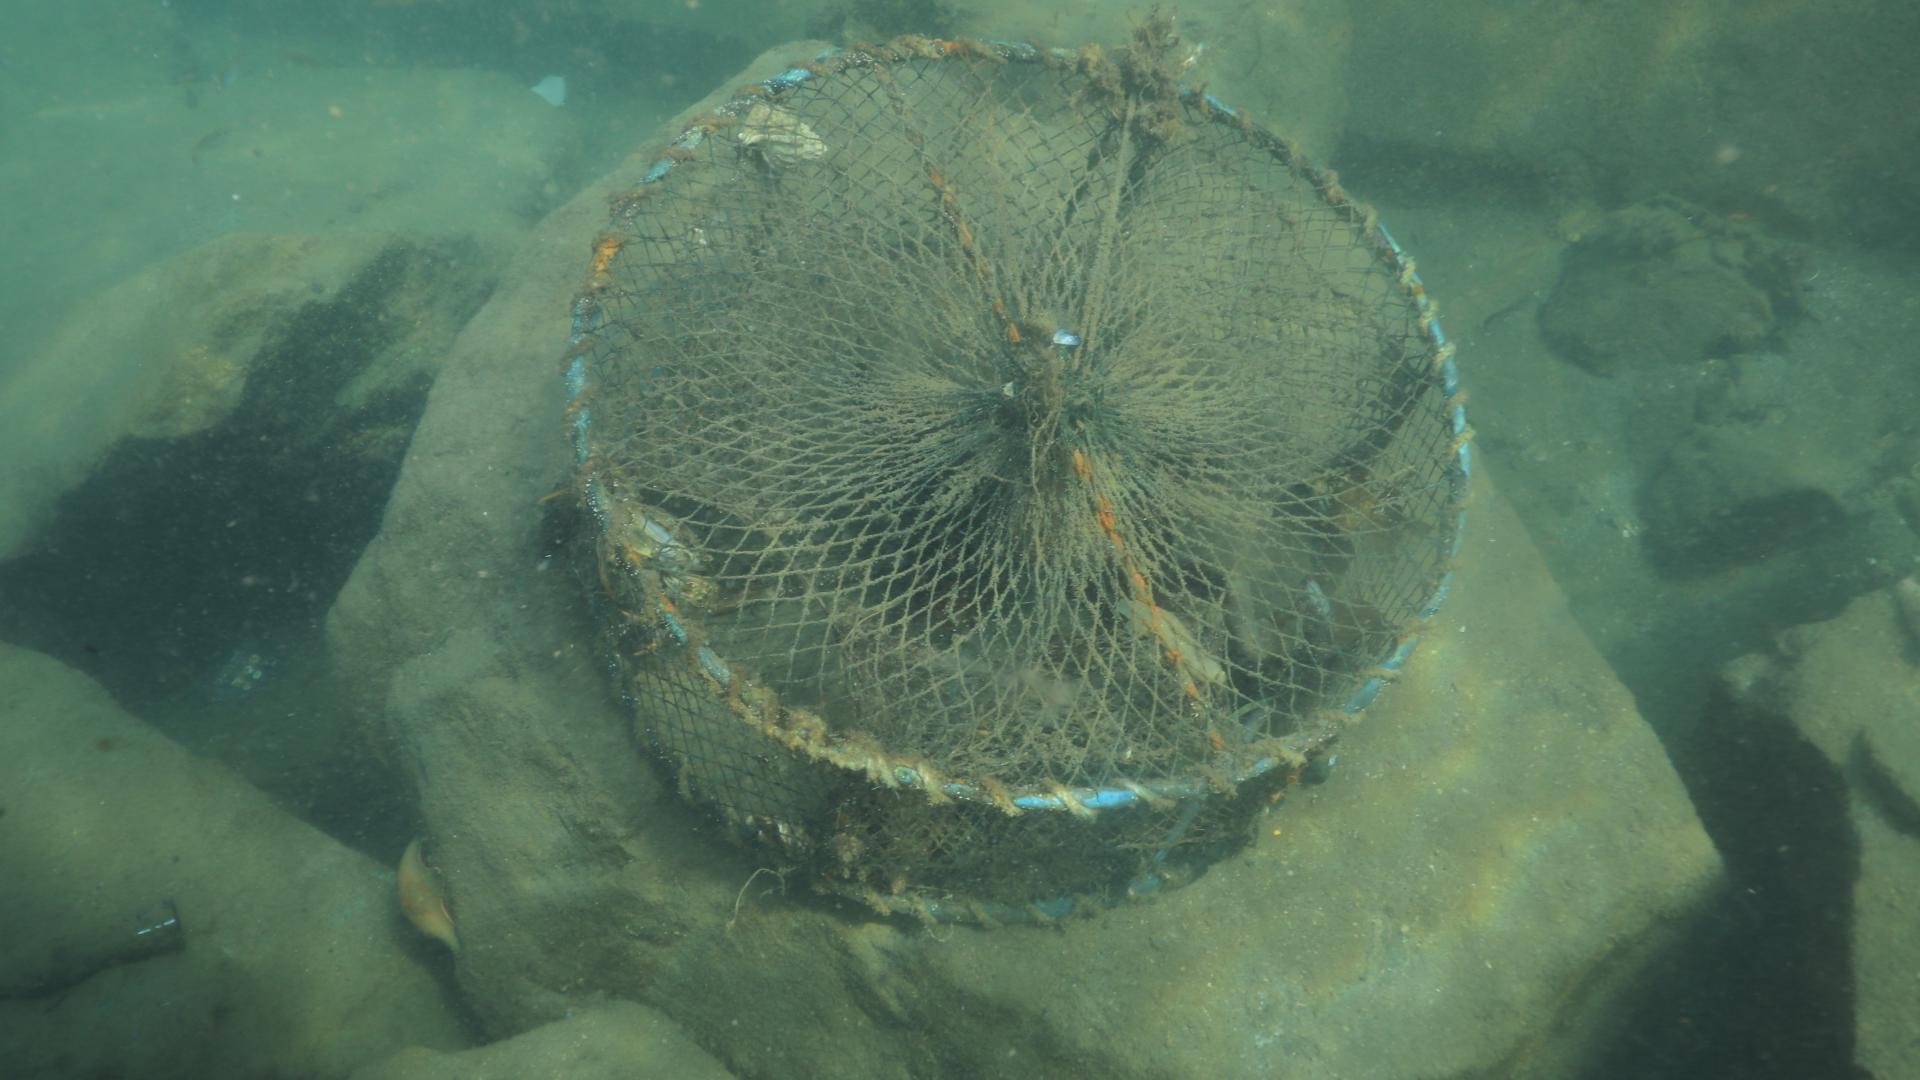circular fish trap: (556, 30, 1476, 927)
